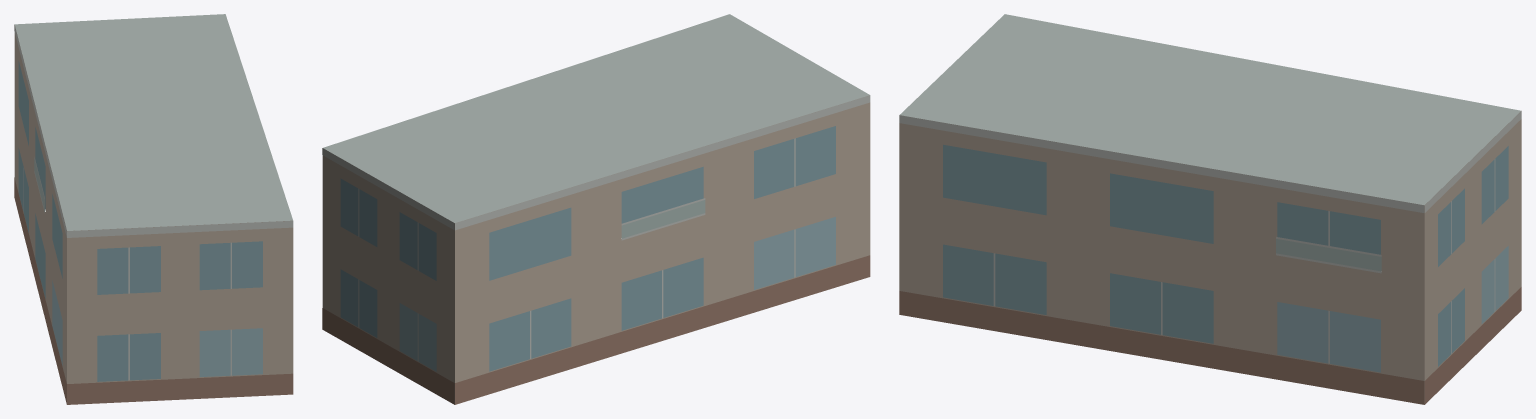
File: survey-upis-32718974.glb
The picture shows the model from 3 angles, left to right: view 1: azimuth 30°, elevation 25°; view 2: azimuth 150°, elevation 25°; view 3: azimuth 270°, elevation 25°; orthographic projection. The views are drawn at different scales.
Visible parts, largest first — view 1: survey-upis-32718974.tmp; view 2: survey-upis-32718974.tmp; view 3: survey-upis-32718974.tmp.
Boxes of the visible parts, <box> form: survey-upis-32718974.tmp: <box>14,14,293,404</box>; survey-upis-32718974.tmp: <box>322,14,870,404</box>; survey-upis-32718974.tmp: <box>899,14,1521,404</box>.
Size of the model in its own units: 12.55 by 6.1 by 17.24.
